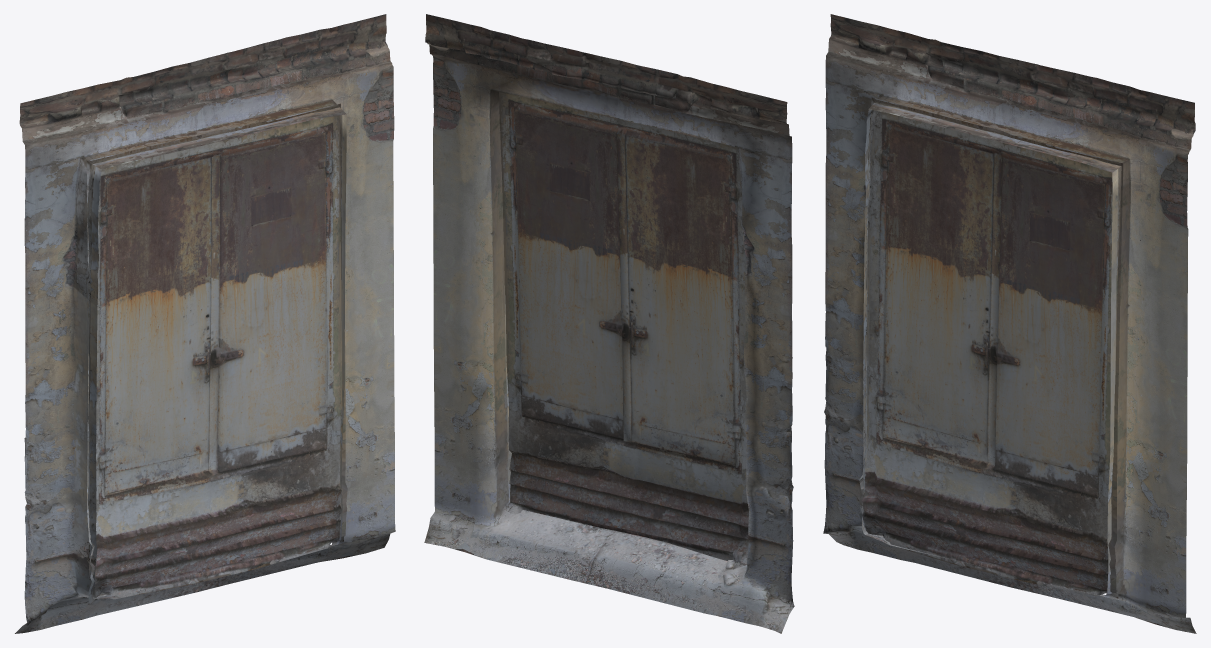
Rendered from sm_Wall_05_04.fbx.
The picture shows the model from 3 angles, left to right: view 1: azimuth 30°, elevation 25°; view 2: azimuth 150°, elevation 25°; view 3: azimuth 330°, elevation 25°; orthographic projection.
Parts seen in each view (by area): view 1: sm_Wall_05_04_LOD0; view 2: sm_Wall_05_04_LOD0; view 3: sm_Wall_05_04_LOD0.
Boxes of the visible parts, x1,y1,x2,y2 form: sm_Wall_05_04_LOD0: (15,14,395,633); sm_Wall_05_04_LOD0: (424,14,794,633); sm_Wall_05_04_LOD0: (823,14,1196,633).
Size of the model in its own units: 32.9 by 250 by 349.
